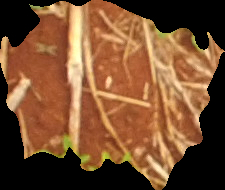soil: (1, 1, 225, 189)
